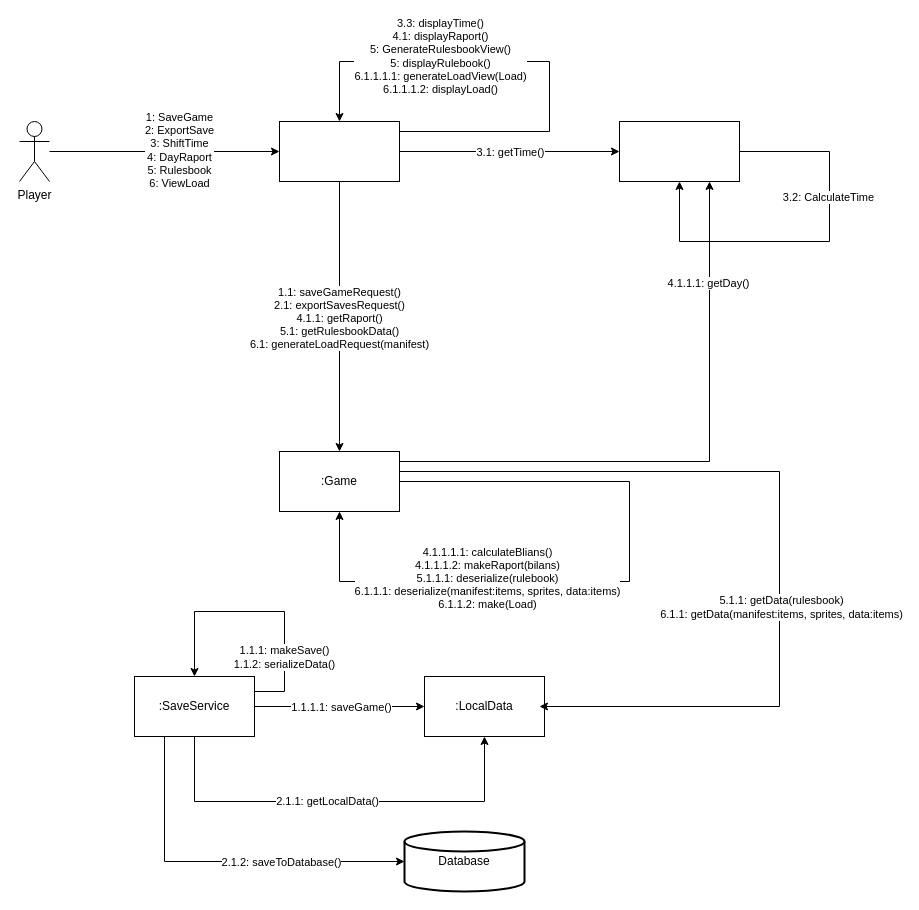
Image size: 919x910. Some labels were removed from this diagram. Here are the shapes that lost their labels. From the top down, the box of each, then its label:
(278, 120, 400, 182): :Interface
(618, 120, 740, 182): :Clock
